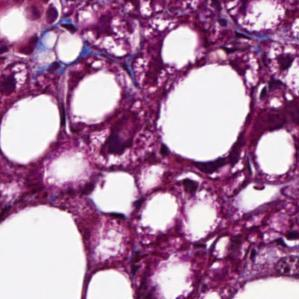inflammation: (247, 46, 296, 111), (94, 119, 154, 165)
